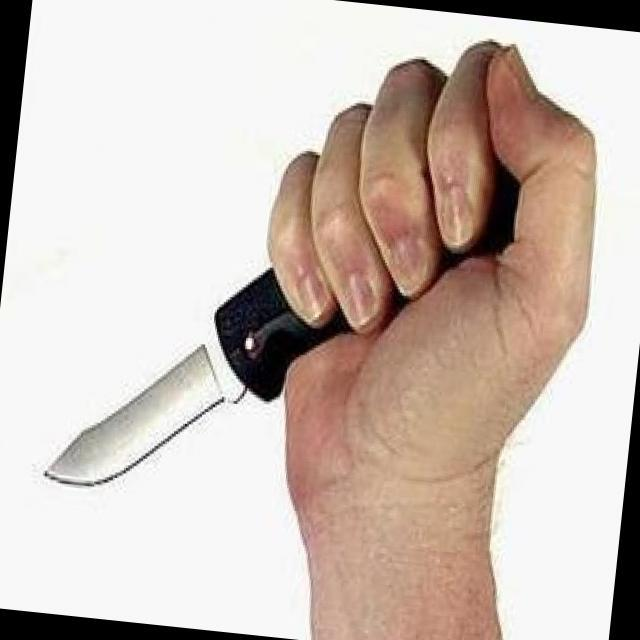Knife: (23, 111, 434, 538)
